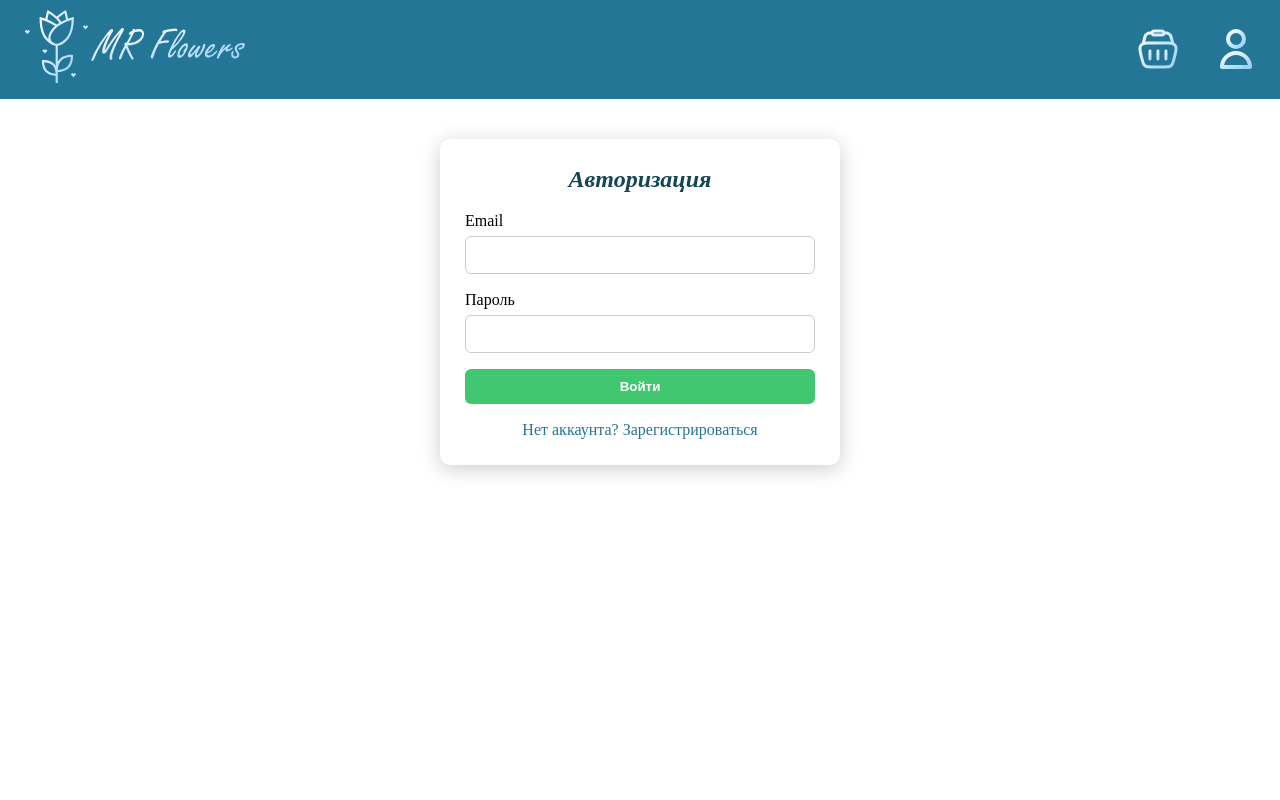
Test: Личный кабинет › регистрирует пользователя
This screenshot has width=1280, height=800.
Click the text with test id "tab" at (640, 431), box [522, 420, 757, 441]
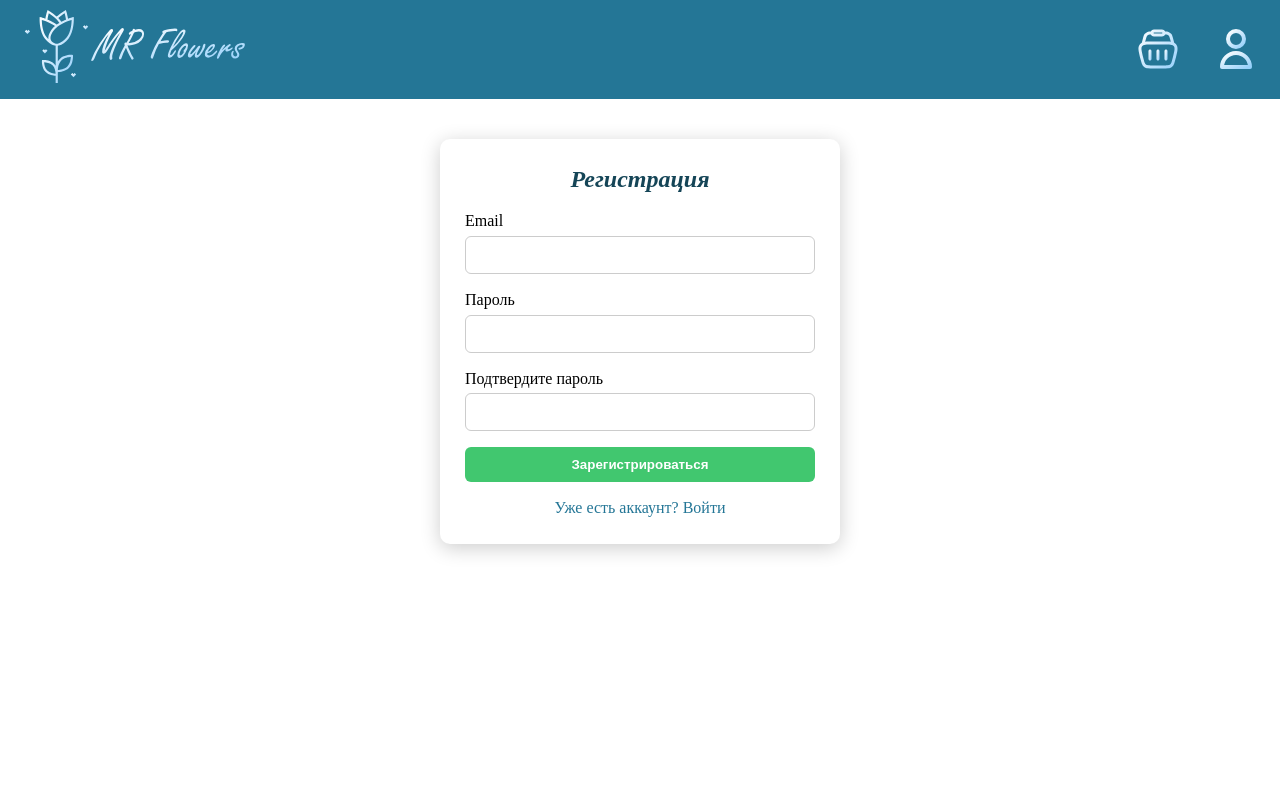
Type "testuser@example.com" into the field with test id "email" at (640, 255), box [465, 236, 815, 274]
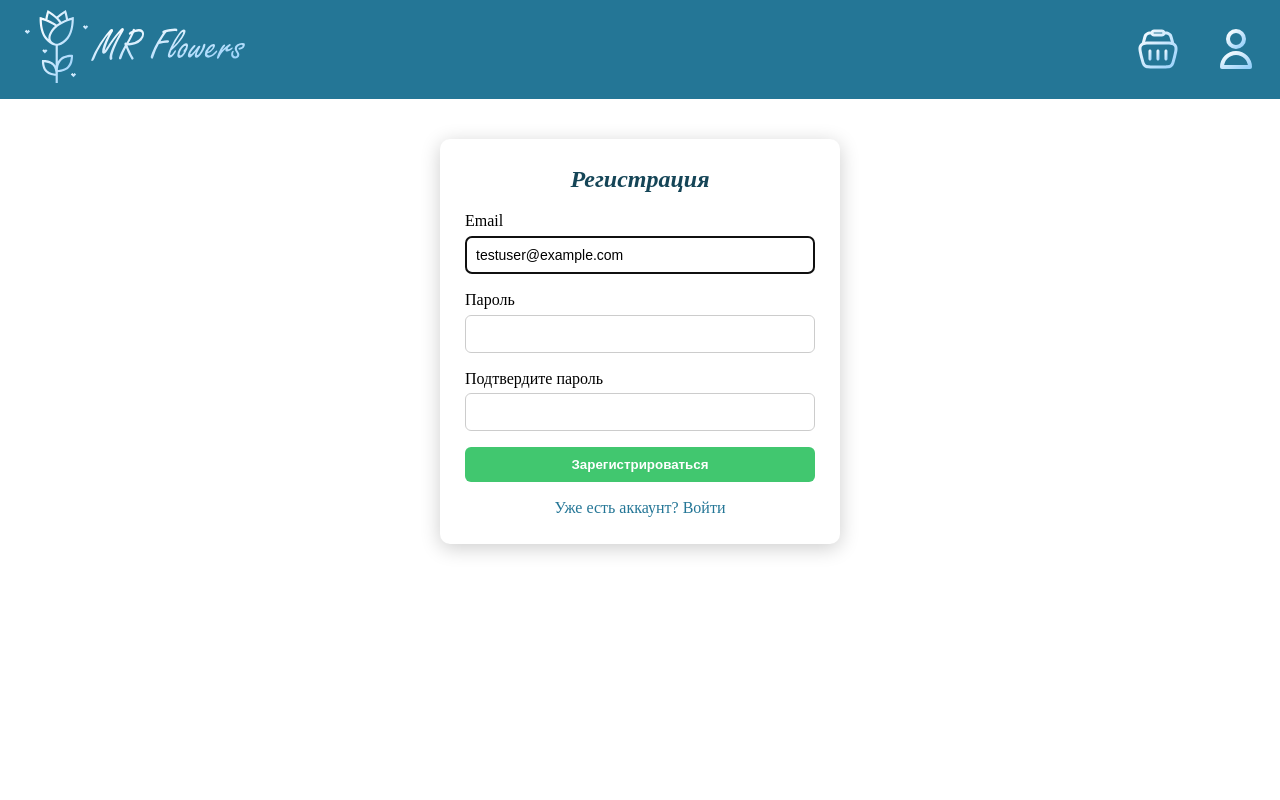
Type "testpassword" into the password field with test id "password" at (640, 334), box [465, 315, 815, 353]
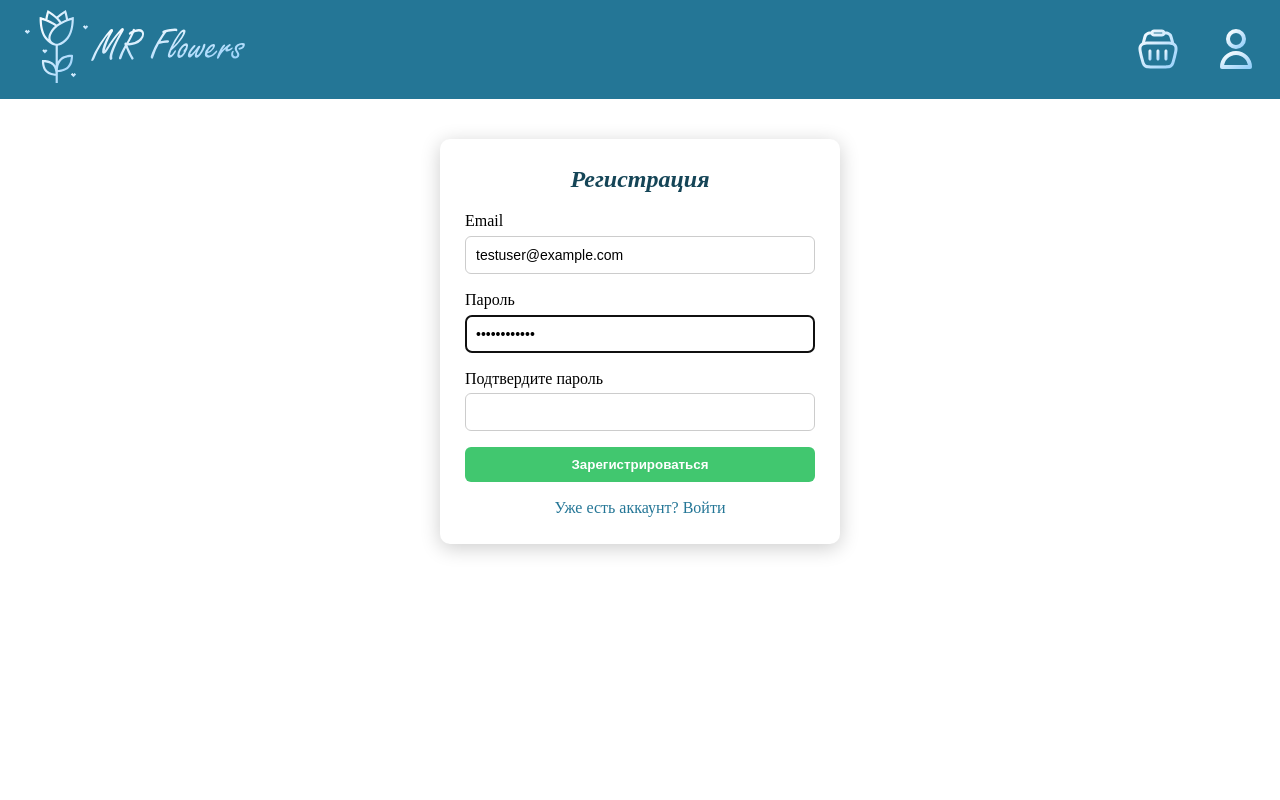
Type "testpassword" into the password field with test id "repeat-password" at (640, 412), box [465, 393, 815, 431]
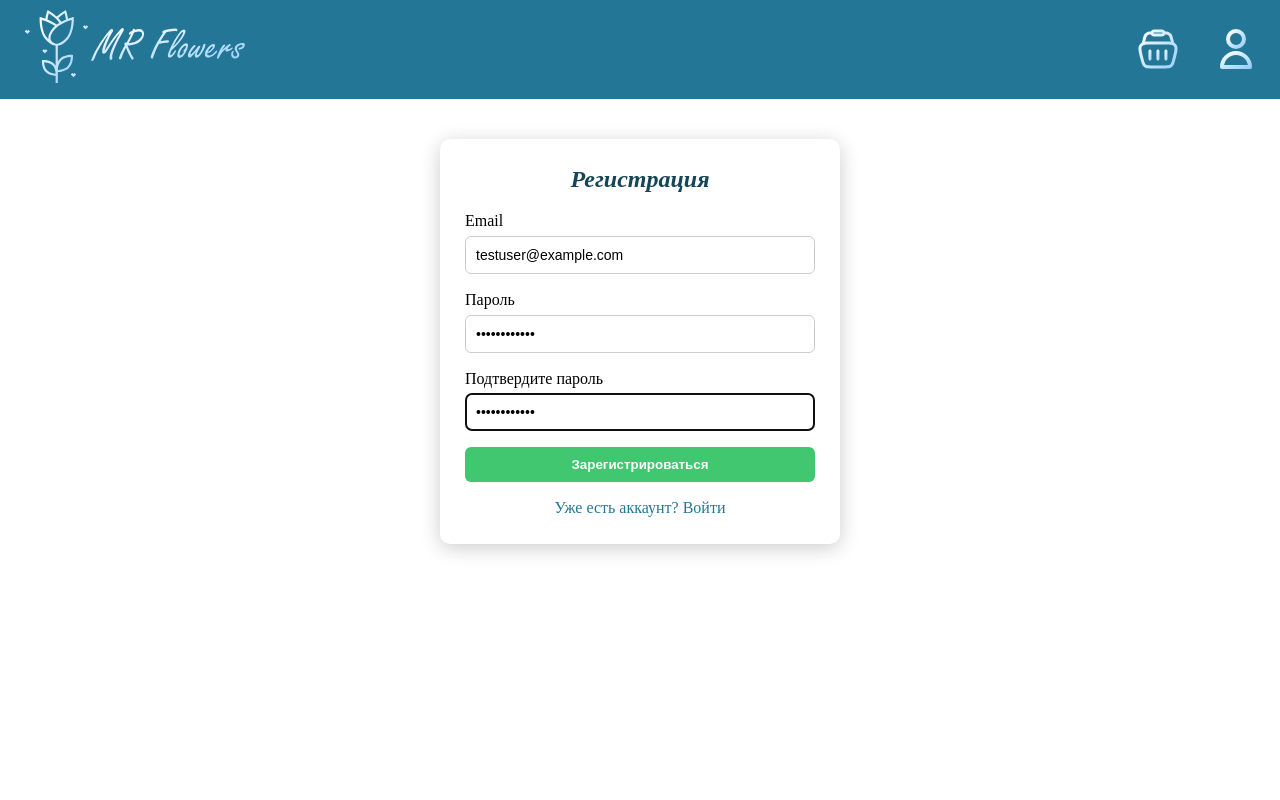
Click the button with test id "submit" at (640, 465), box [465, 447, 815, 482]
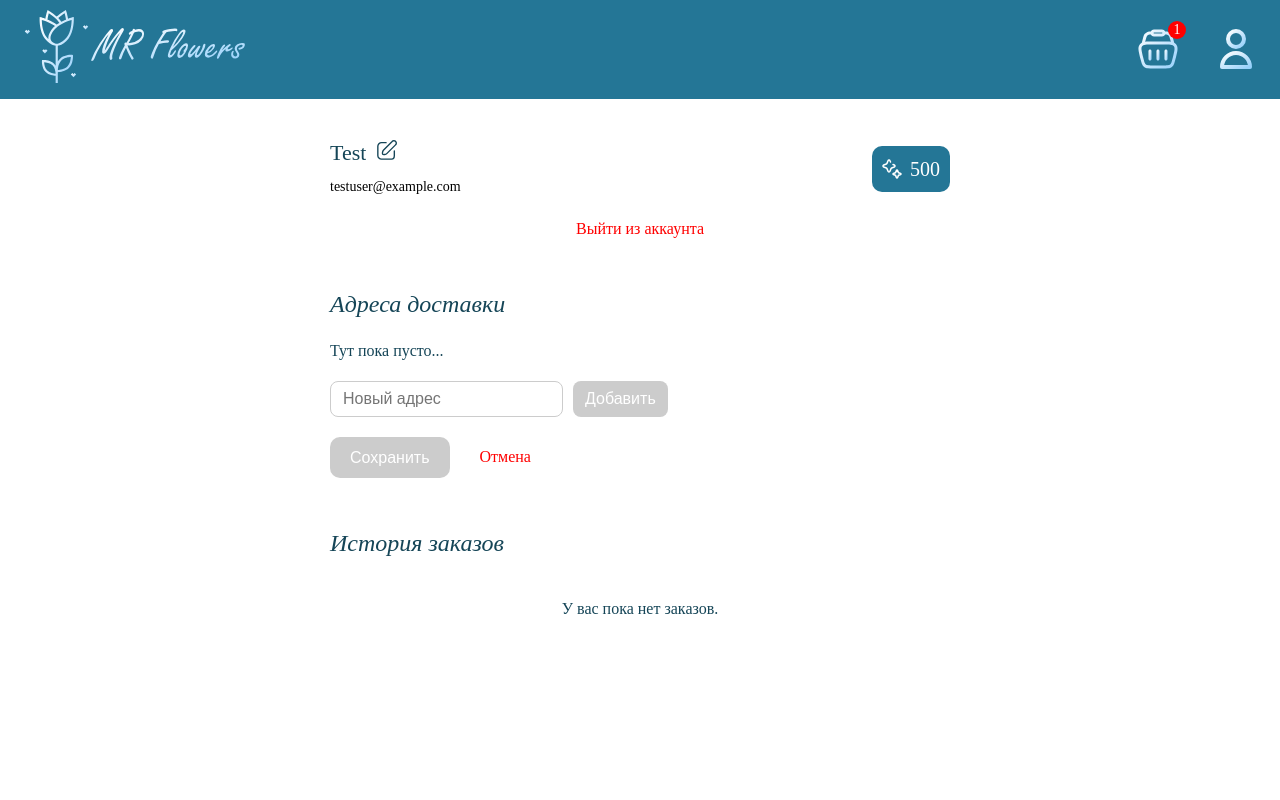
Expected: the text with test id "profile-email" reads "testuser@example.com", [330, 179, 461, 194]
